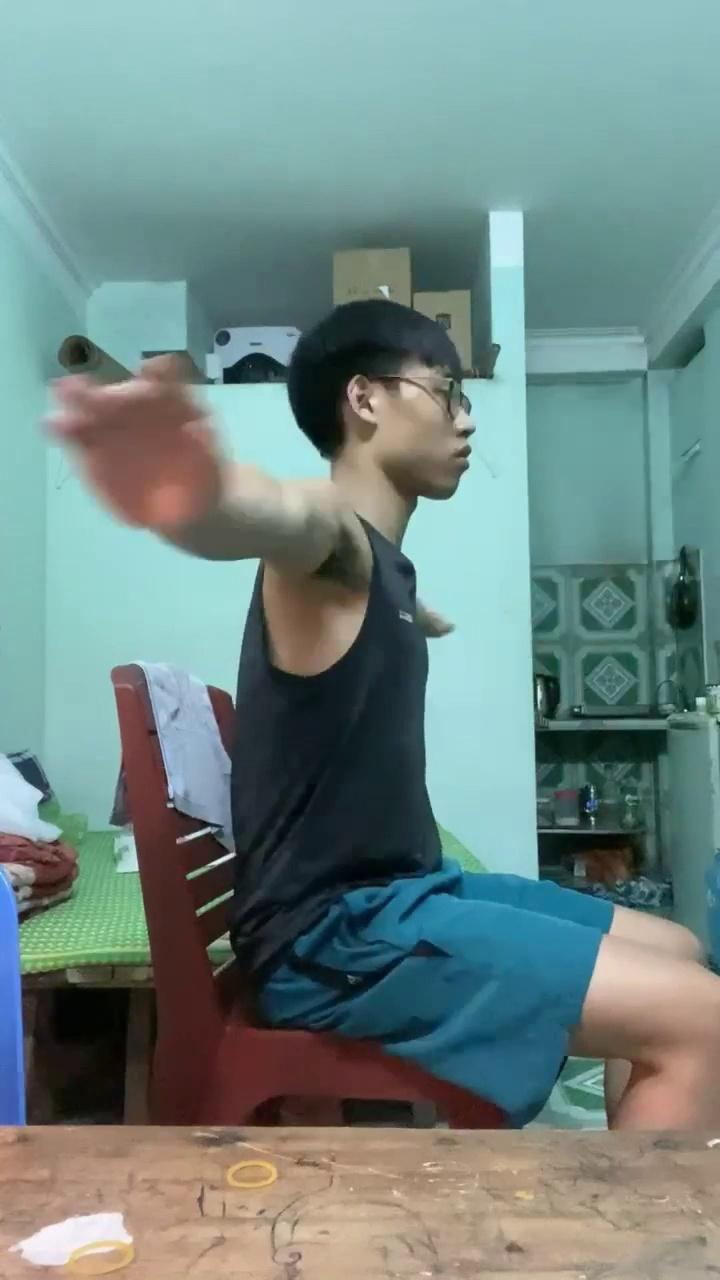GoodPosture: (62, 297, 719, 1129)
